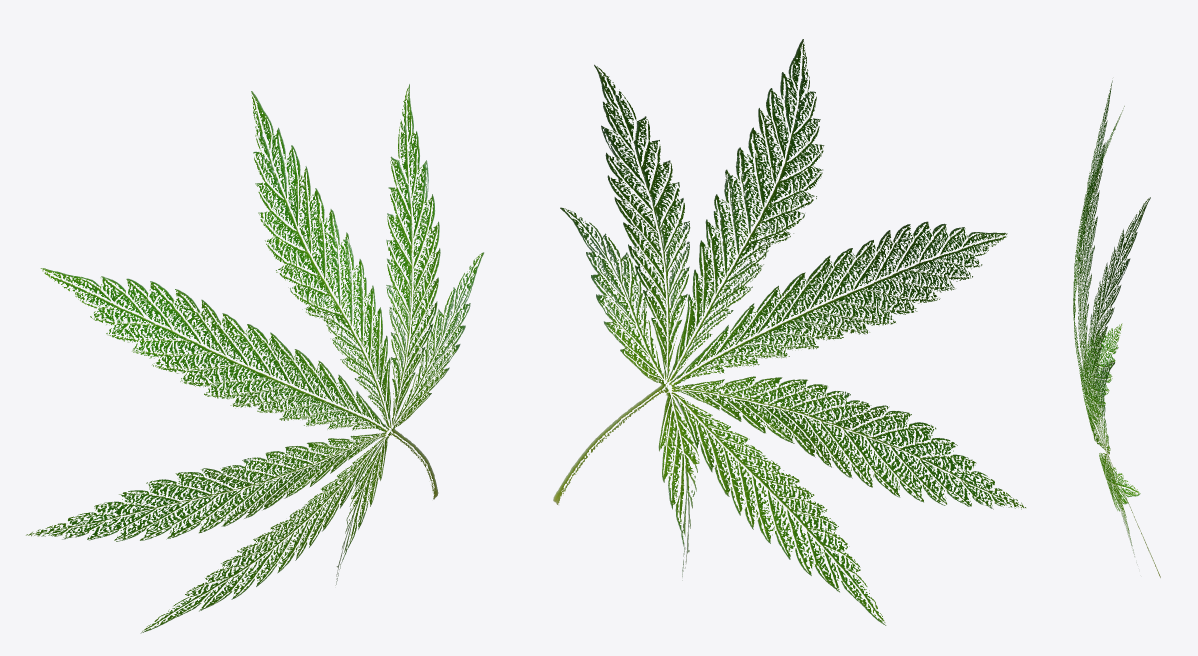
Rendered from Daun_Ganja.fbx.
The picture shows the model from 3 angles, left to right: view 1: azimuth 30°, elevation 25°; view 2: azimuth 150°, elevation 25°; view 3: azimuth 270°, elevation 25°; orthographic projection. The views are drawn at different scales.
Visible parts, largest first — view 1: ganja.daun; view 2: ganja.daun; view 3: ganja.daun.
Boxes of the visible parts, x1,y1,x2,y2 form: ganja.daun: (26,84,484,633); ganja.daun: (553,39,1025,625); ganja.daun: (1073,80,1160,577).
Size of the model in its own units: 399 by 460 by 94.08.
